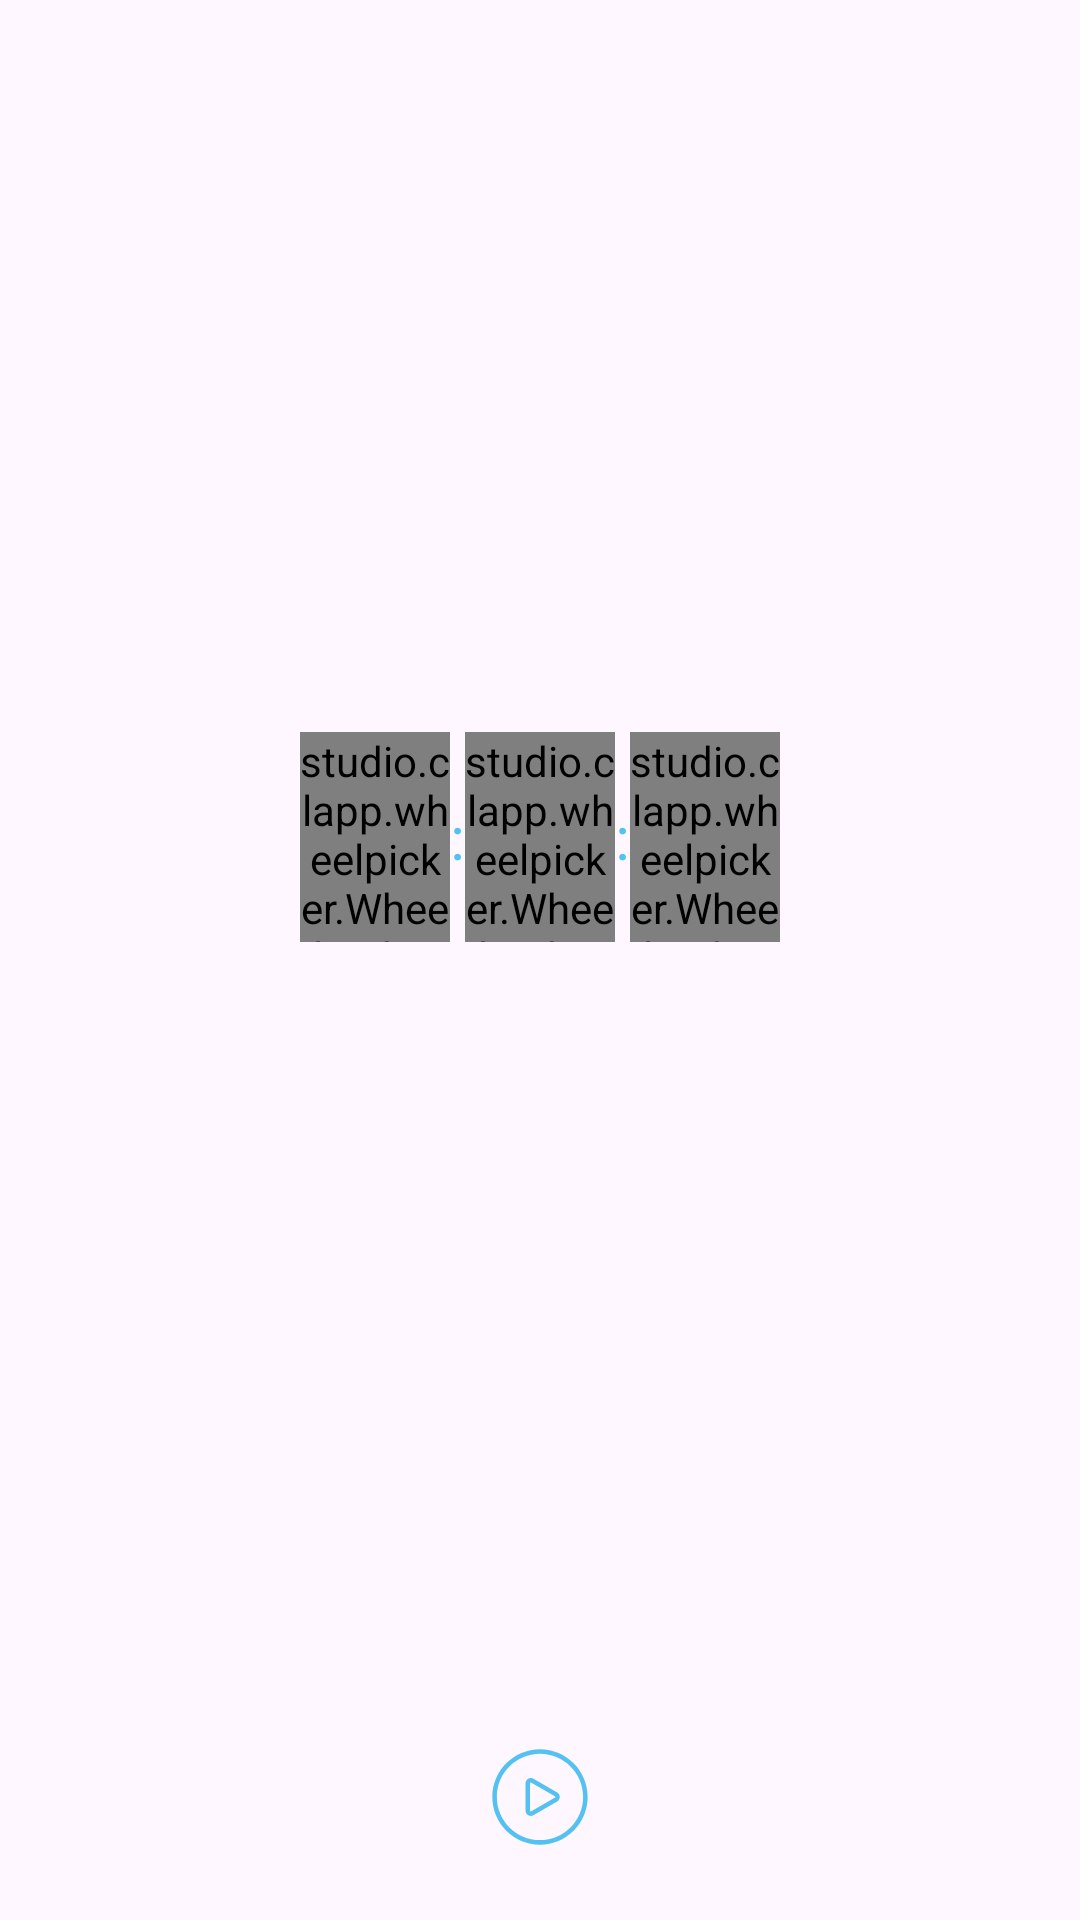

Named icons in this screenshot (1080*1920) and their bounding boxes, [x1=x1, y1=y1, x2=x2, y2=y2]:
play: [x1=492, y1=1749, x2=588, y2=1845]
